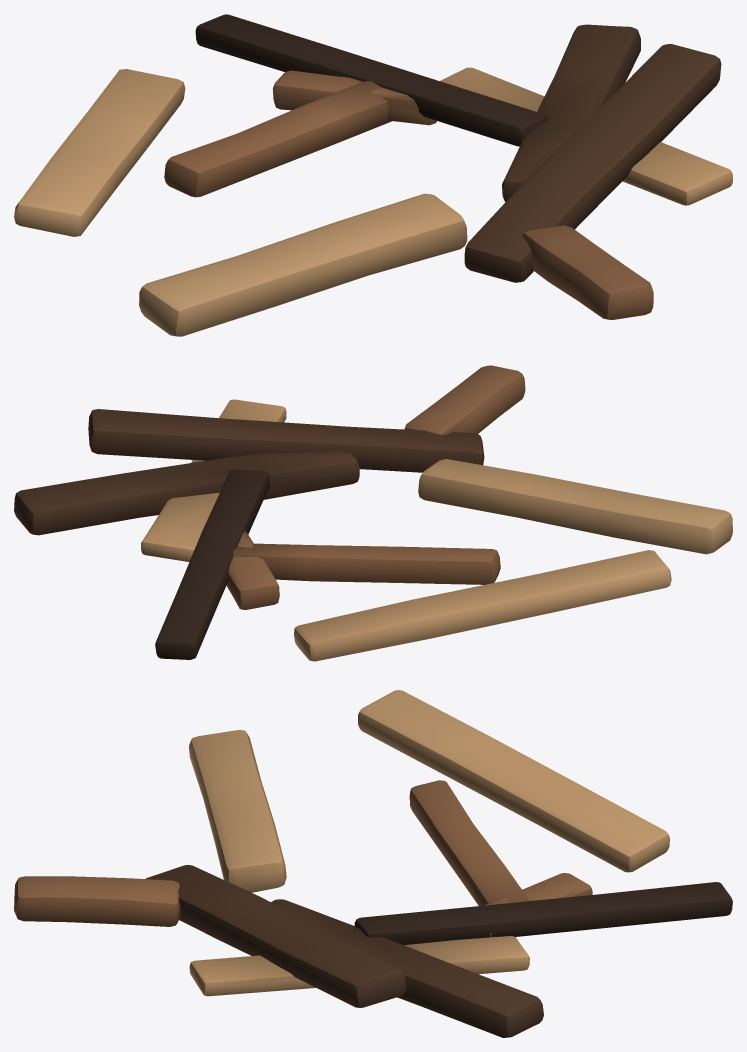
File: ember_gc_wood_chips_b.glb
3 renders of one model, top to bottom at view 1: azimuth 30°, elevation 25°; view 2: azimuth 150°, elevation 25°; view 3: azimuth 270°, elevation 25°, orthographic. The views are drawn at different scales.
Visible parts, largest first — view 1: ember_gc_wood_chips_b; view 2: ember_gc_wood_chips_b; view 3: ember_gc_wood_chips_b.
Part boxes in pixels (x1,y1,x2,y2): ember_gc_wood_chips_b: [14, 14, 732, 336]; ember_gc_wood_chips_b: [14, 365, 732, 661]; ember_gc_wood_chips_b: [14, 690, 732, 1037].
Size of the model in its own units: 4.85 by 0.4614 by 4.95.
